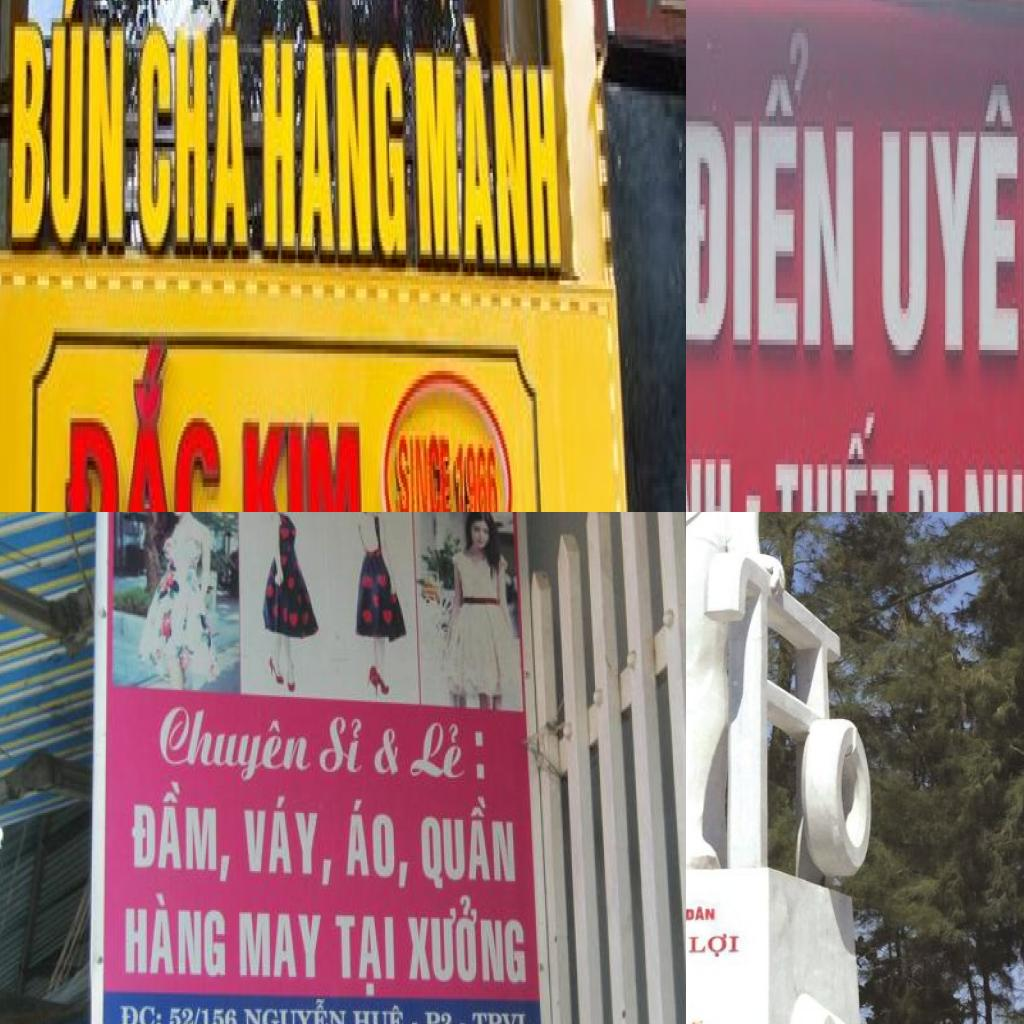text: (686, 22, 857, 355), (410, 1, 564, 285), (878, 79, 1024, 365), (258, 0, 409, 271), (3, 0, 128, 267), (134, 0, 253, 267), (63, 345, 225, 512), (238, 405, 366, 512), (772, 407, 897, 512), (129, 777, 233, 886), (404, 895, 527, 987), (157, 706, 312, 777), (123, 890, 229, 980), (421, 796, 519, 893), (243, 791, 335, 890), (237, 910, 325, 982), (344, 796, 411, 888), (331, 914, 397, 999), (393, 431, 454, 512), (963, 433, 1024, 512), (408, 721, 468, 784), (316, 712, 367, 781), (454, 439, 502, 512), (239, 999, 348, 1024), (907, 464, 951, 512), (686, 931, 744, 959), (351, 1002, 408, 1024), (469, 1005, 534, 1024), (119, 1004, 165, 1024), (422, 1004, 455, 1024), (202, 1007, 238, 1024), (686, 904, 717, 923), (167, 1005, 195, 1024)
